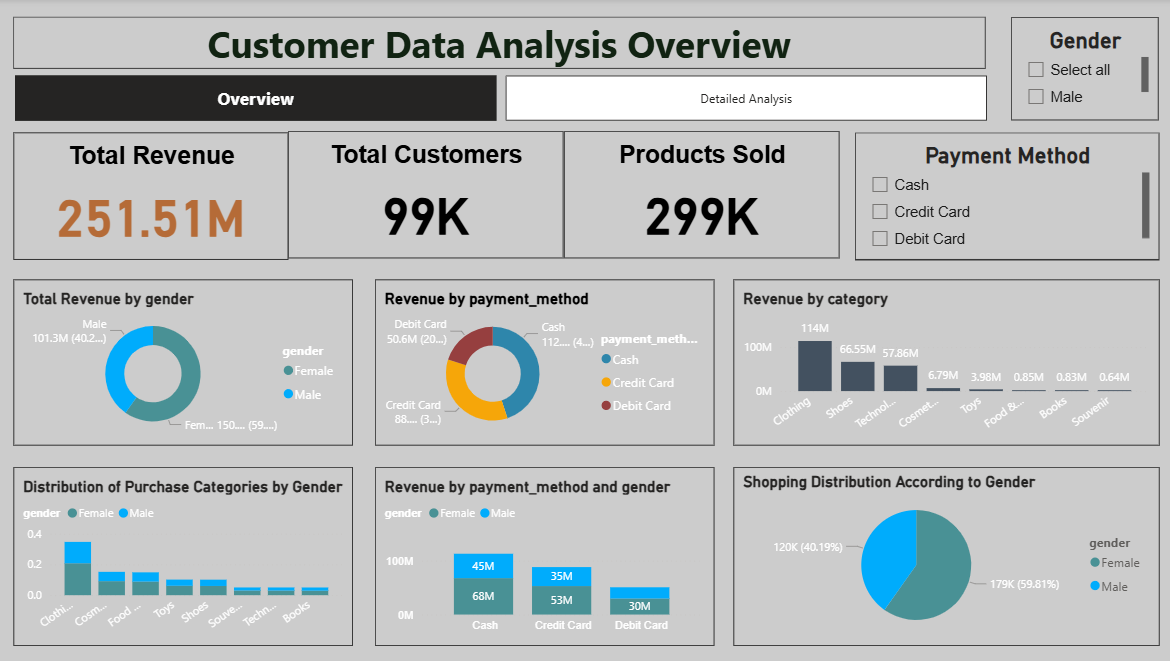

What the dashboard file says about the page in this screenshot:
{"tool":"powerbi","page":{"name":"Overview","canvas":[1280,720],"ordinal":0},"visuals":[{"type":"slicer","title":"Gender","fields":{"Values":["Project_customer_segmentation.gender"]},"box":[1100,20,160,112],"z":0},{"type":"slicer","title":"Payment Method","fields":{"Values":["Project_customer_segmentation.payment_method"]},"box":[930,144,330,138],"z":1000},{"type":"card","title":"Total Revenue","fields":{"Values":["Project_customer_segmentation.Revenue"]},"box":[18,144,298,138],"z":2000},{"type":"card","title":"Total Customers","fields":{"Values":["Project_customer_segmentation.Total_Customers"]},"box":[315.6,143.6,298.6,138],"z":3000},{"type":"card","title":"Products Sold","fields":{"Values":["Project_customer_segmentation.Products_Sold"]},"box":[614.2,143.6,298.6,138],"z":4000},{"type":"donutChart","title":"Total Revenue by gender","fields":{"Category":["Project_customer_segmentation.gender"],"Y":["Project_customer_segmentation.Revenue"]},"box":[18,304,368,180],"z":5000},{"type":"donutChart","fields":{"Category":["Project_customer_segmentation.payment_method"],"Y":["Project_customer_segmentation.Revenue"]},"box":[410,304,368,180],"z":6000},{"type":"columnChart","fields":{"Category":["Project_customer_segmentation.category"],"Y":["Project_customer_segmentation.Revenue"]},"box":[798,304,462,180],"z":7000},{"type":"columnChart","title":"Distribution of Purchase Categories by Gender","fields":{"Category":["Project_customer_segmentation.category"],"Series":["Project_customer_segmentation.gender"],"Y":["Project_customer_segmentation.Pct_Customers_By_Gender"]},"box":[18,508,368,194],"z":8000},{"type":"columnChart","fields":{"Category":["Project_customer_segmentation.payment_method"],"Series":["Project_customer_segmentation.gender"],"Y":["Project_customer_segmentation.Revenue"]},"box":[410,508,368,194],"z":9000},{"type":"shape","title":"Customer Data Analysis","box":[18,20,1054,56],"z":10000},{"type":"pieChart","title":"Shopping Distribution According to Gender","fields":{"Category":["Project_customer_segmentation.gender"],"Y":["Project_customer_segmentation.Products_Sold"]},"box":[798,508,462,194],"z":11000},{"type":"pageNavigator","box":[18.9,83.2,1054.5,49.1],"z":12000}]}

Visuals, with their boxes in screenshot pixels (x1, y1, x2, y2), scaled from the page's 1280x720 canvas onto the 1170x661 screenshot:
"Gender" slicer: <bbox>1005, 18, 1152, 121</bbox>
"Payment Method" slicer: <bbox>850, 132, 1152, 259</bbox>
"Total Revenue" card: <bbox>16, 132, 289, 259</bbox>
"Total Customers" card: <bbox>288, 132, 561, 259</bbox>
"Products Sold" card: <bbox>561, 132, 834, 259</bbox>
"Total Revenue by gender" donutChart: <bbox>16, 279, 353, 444</bbox>
donutChart - Project_customer_segmentation.payment_method x Project_customer_segmentation.Revenue: <bbox>375, 279, 711, 444</bbox>
columnChart - Project_customer_segmentation.category x Project_customer_segmentation.Revenue: <bbox>729, 279, 1152, 444</bbox>
"Distribution of Purchase Categories by Gender" columnChart: <bbox>16, 466, 353, 644</bbox>
columnChart - Project_customer_segmentation.payment_method x Project_customer_segmentation.gender: <bbox>375, 466, 711, 644</bbox>
"Customer Data Analysis" shape: <bbox>16, 18, 980, 70</bbox>
"Shopping Distribution According to Gender" pieChart: <bbox>729, 466, 1152, 644</bbox>
pageNavigator: <bbox>17, 76, 981, 121</bbox>
